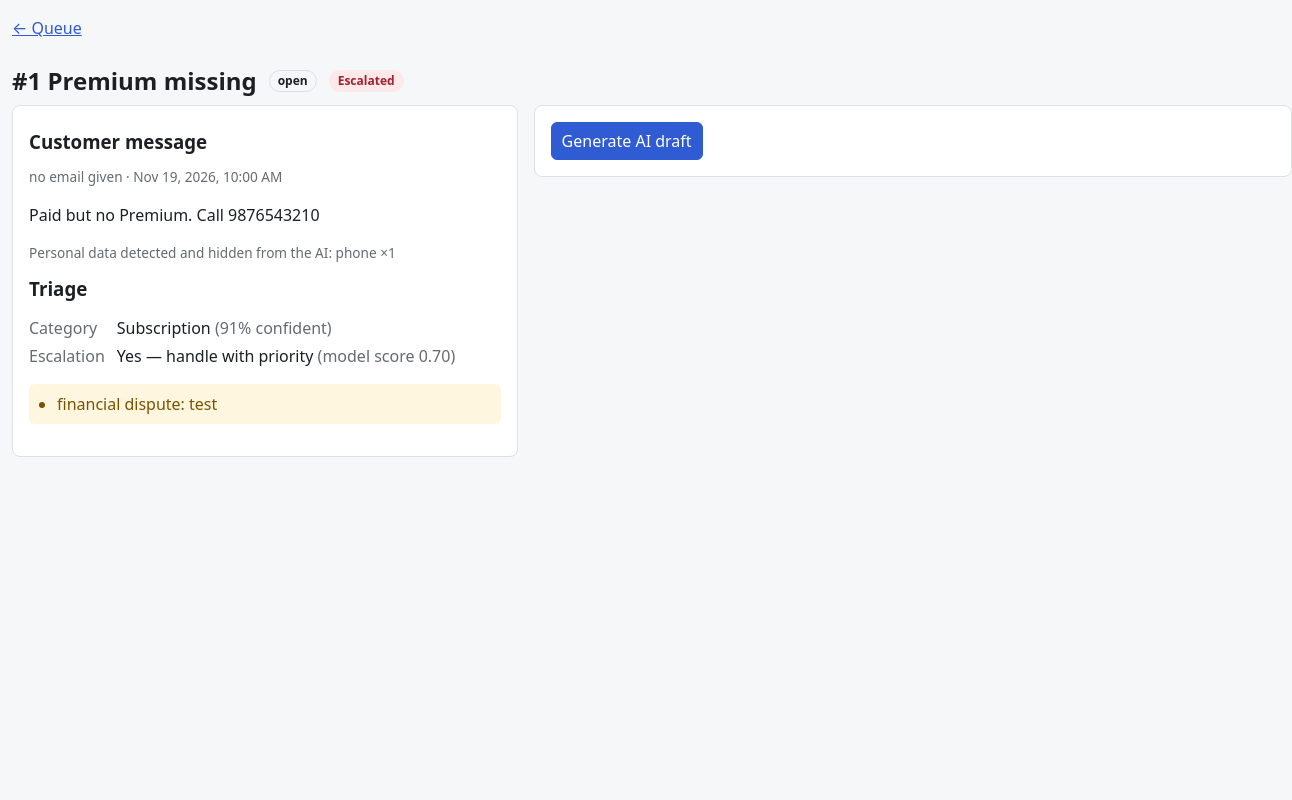
it: TicketPage › generates a draft, then reloads the ticket
Click the button "Generate AI draft" at [627, 141], box [551, 122, 703, 160]
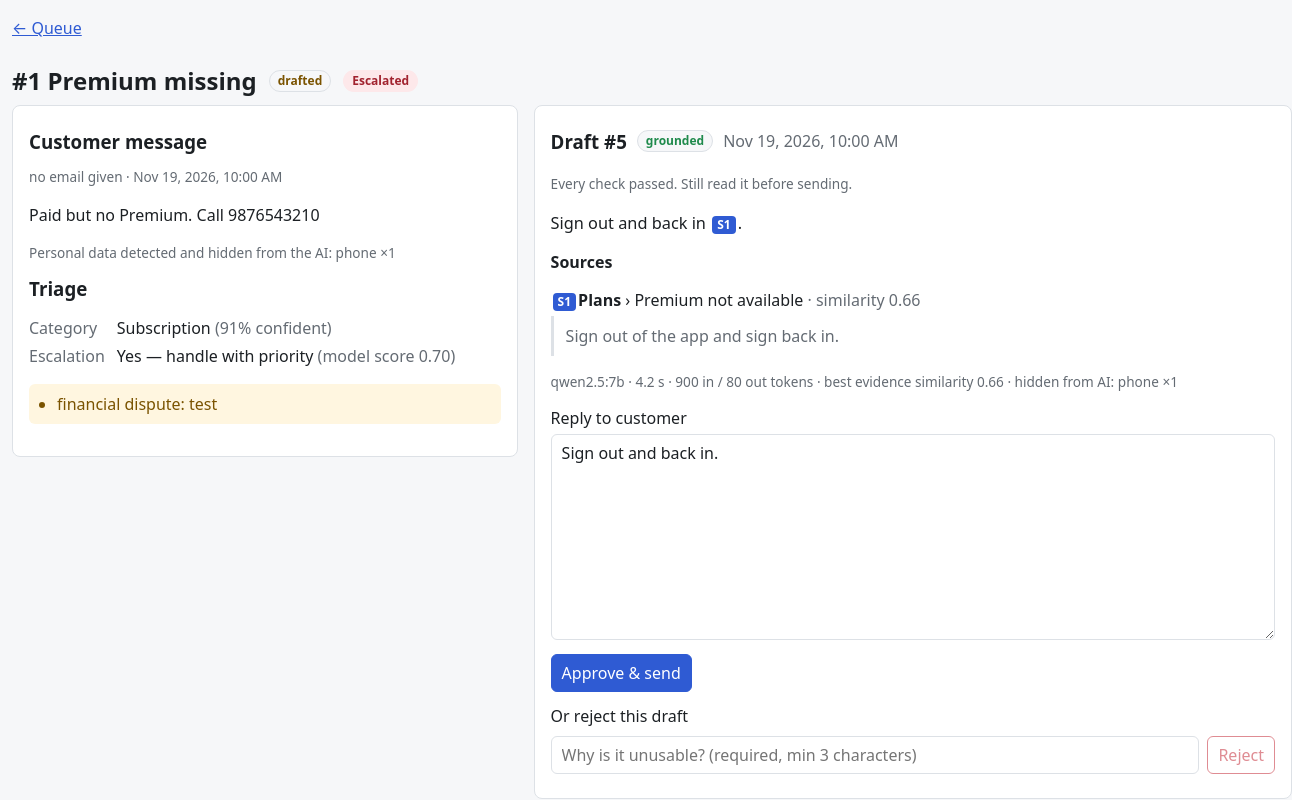
Check: the heading "Draft #5" is shown, box [551, 130, 627, 153]
